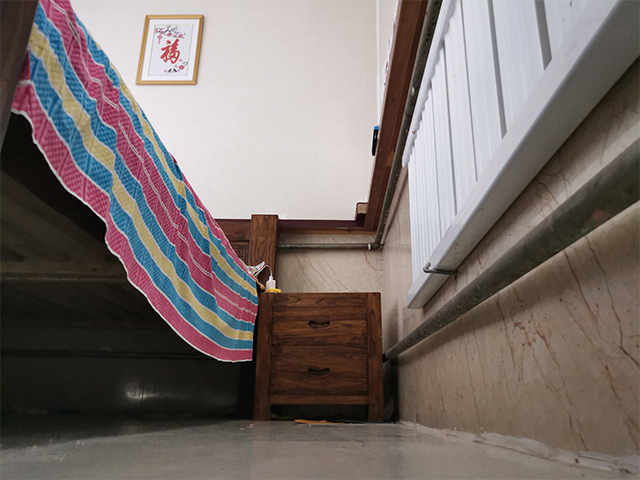bed: (1, 1, 280, 418)
cabinet: (252, 291, 384, 422)
